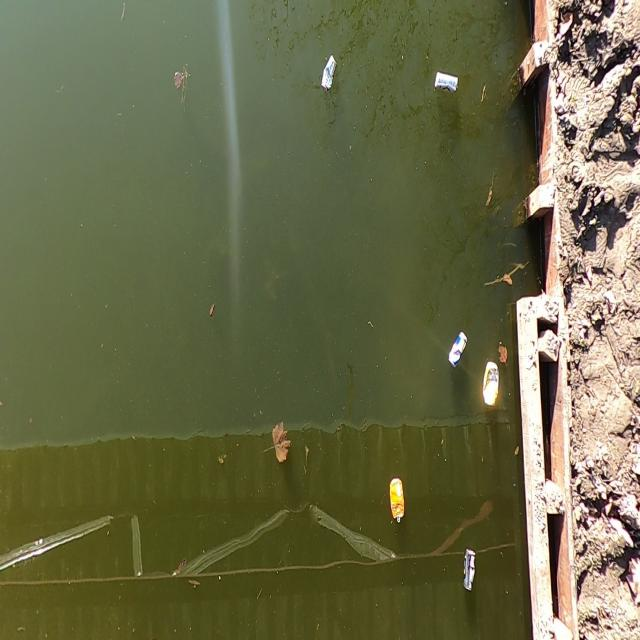Non plastique: (382, 472, 409, 533), (447, 320, 472, 378), (427, 61, 464, 99), (459, 547, 483, 599), (318, 49, 342, 96), (482, 360, 503, 412)
